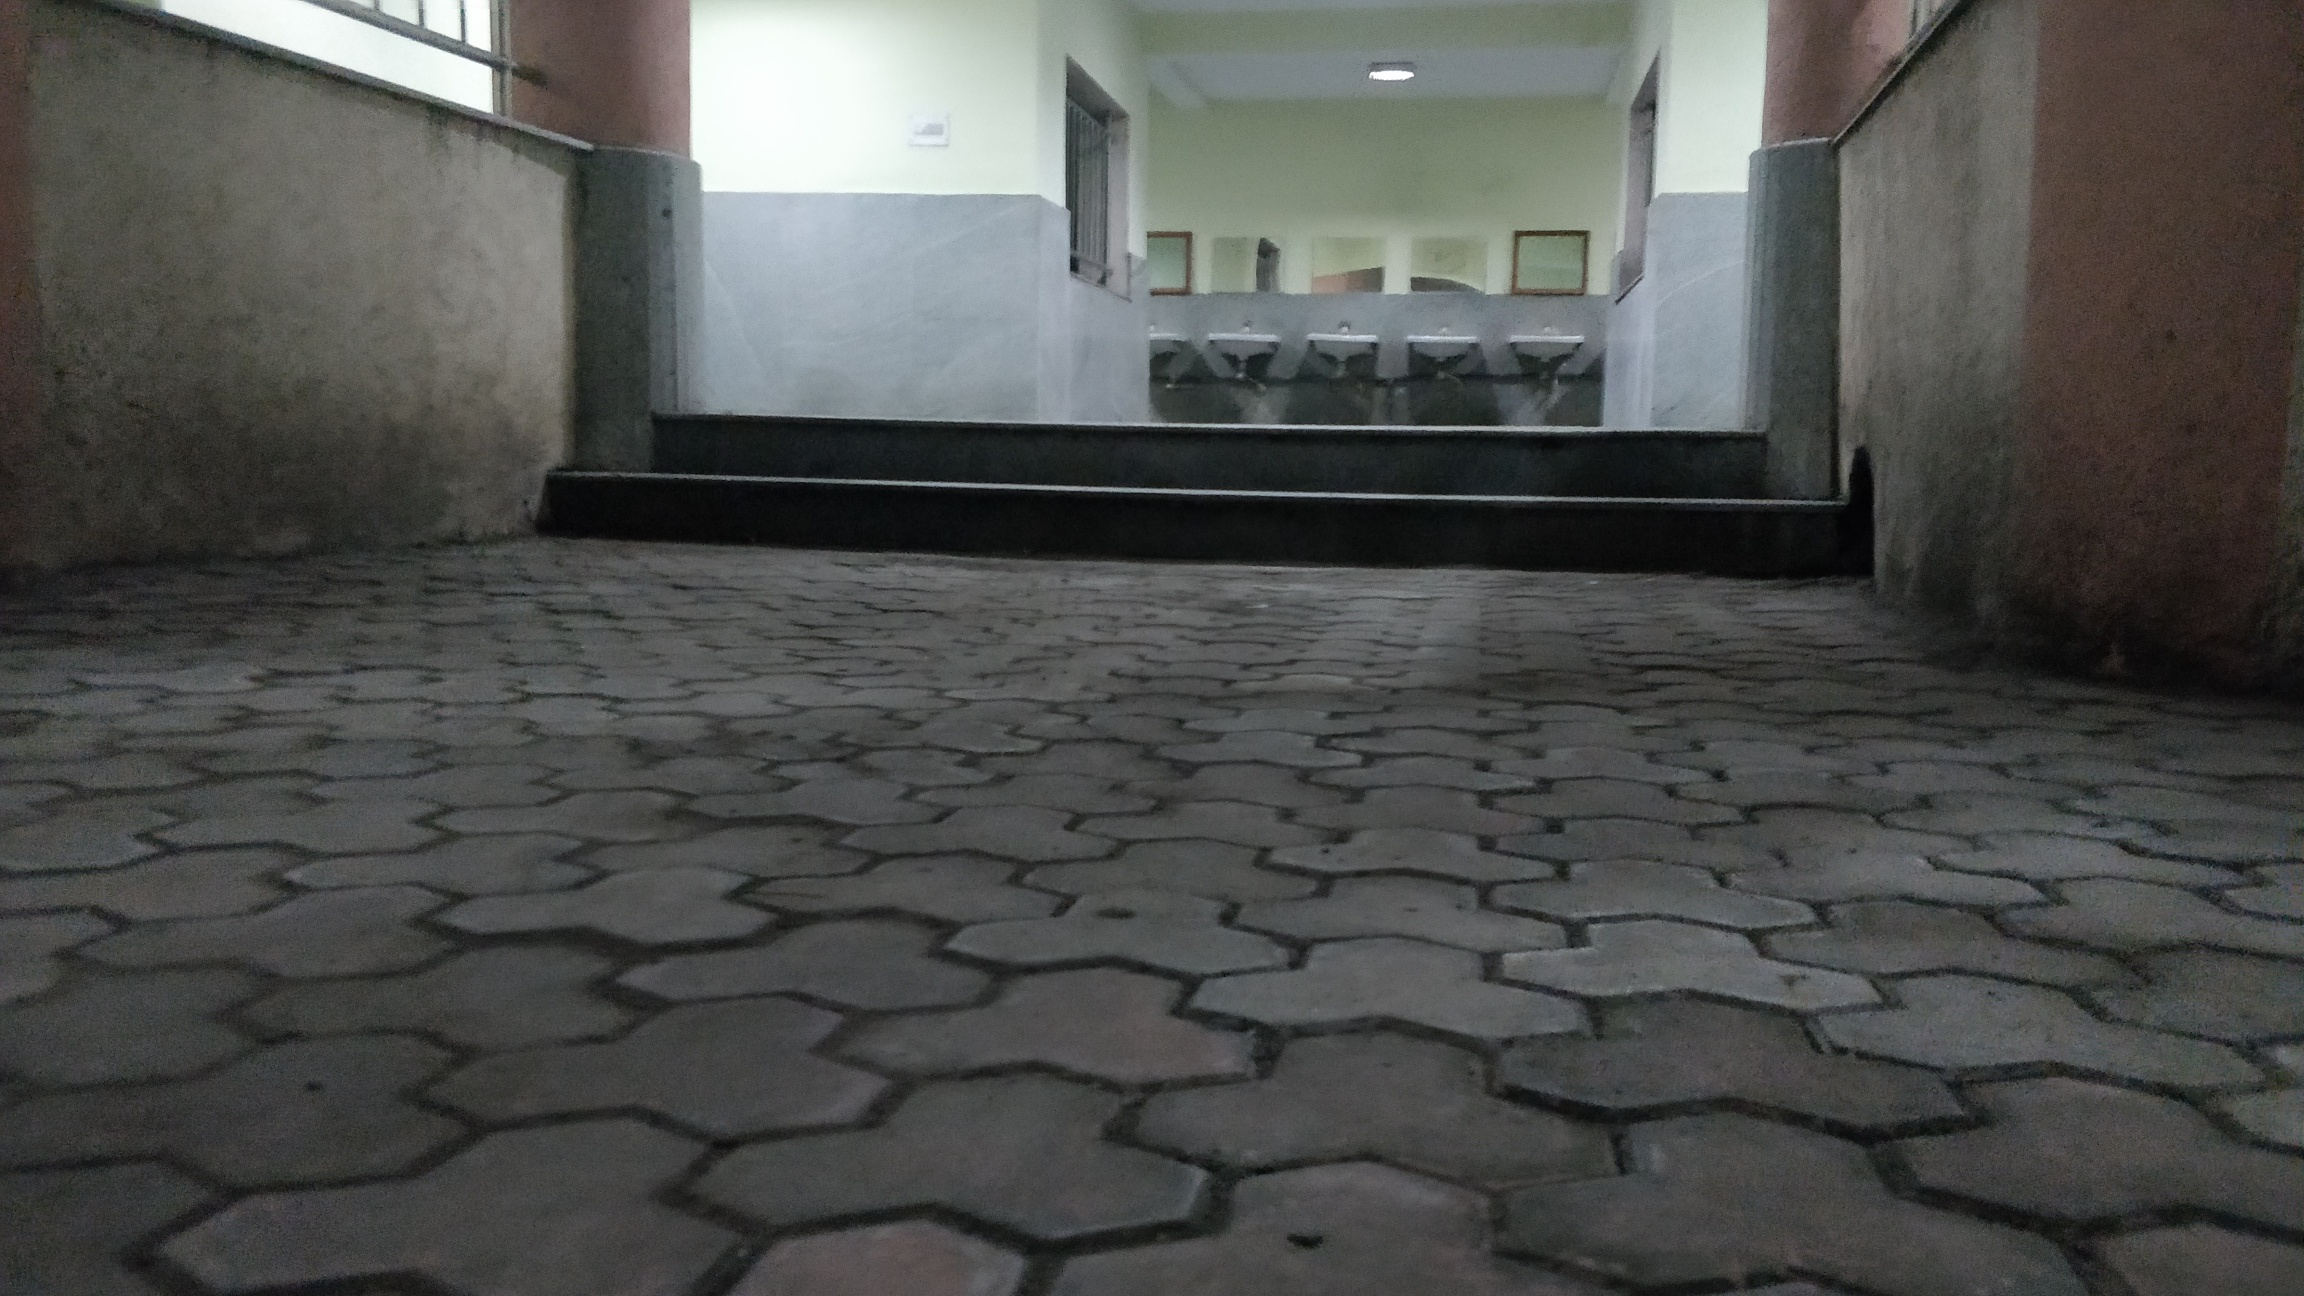stairs_up: (517, 411, 1893, 562)
